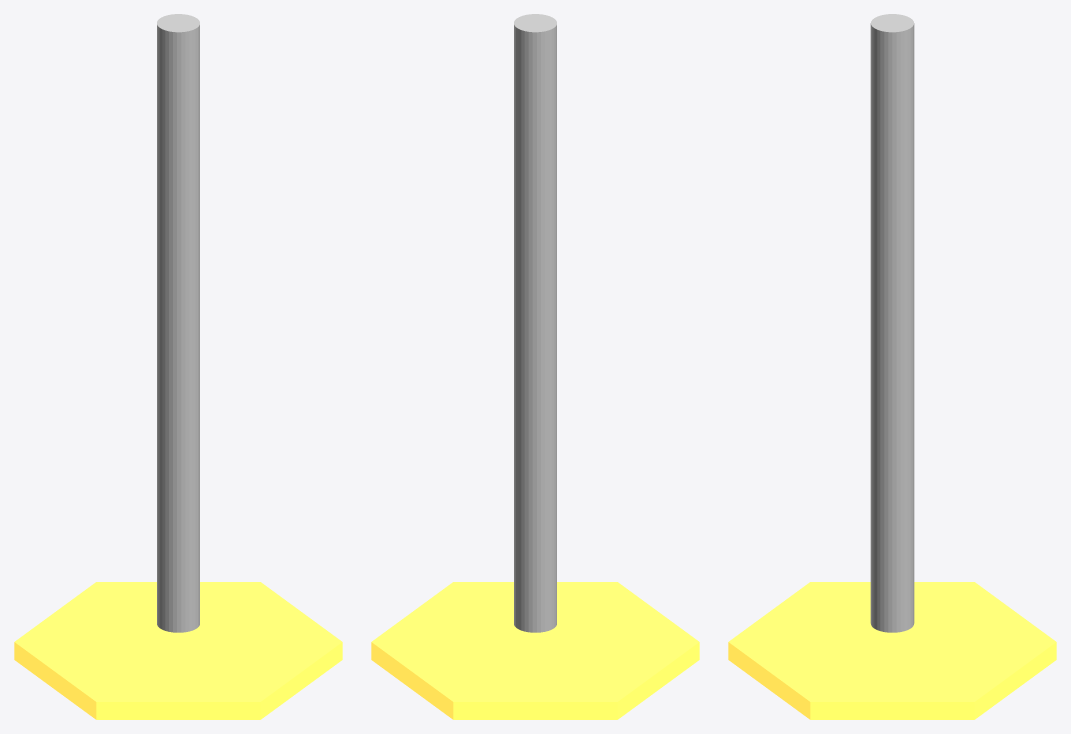
File: StandPole.fbx
3 renders of one model, left to right at view 1: azimuth 30°, elevation 25°; view 2: azimuth 150°, elevation 25°; view 3: azimuth 270°, elevation 25°, orthographic.
Visible parts, largest first — view 1: H souvenir, C Souvenir stand; view 2: H souvenir, C Souvenir stand; view 3: H souvenir, C Souvenir stand.
Boxes of the visible parts, x1,y1,x2,y2 form: H souvenir: (14, 582, 342, 719); C Souvenir stand: (157, 14, 199, 632); H souvenir: (371, 582, 699, 719); C Souvenir stand: (514, 14, 556, 632); H souvenir: (728, 582, 1056, 719); C Souvenir stand: (870, 14, 914, 632).
Size of the model in its own units: 182 by 449 by 210.
